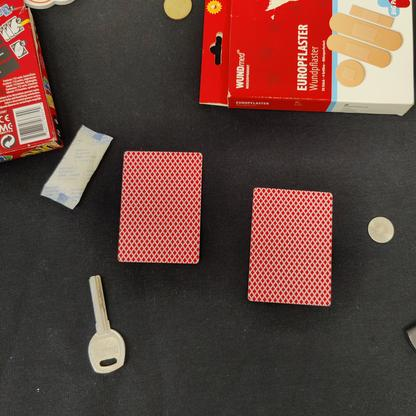card: (113, 146, 210, 269), (240, 185, 337, 308)
